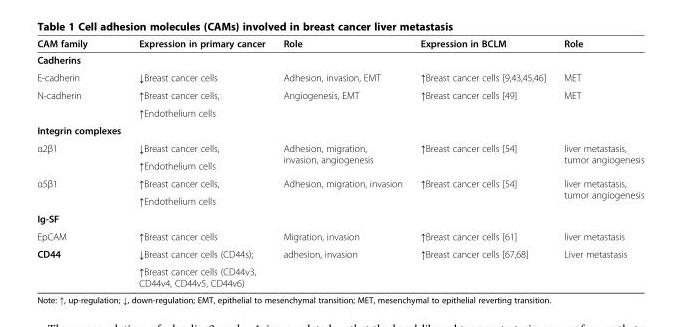table: (36, 37, 643, 288)
table column: (129, 37, 273, 288), (410, 37, 554, 288), (273, 37, 410, 288), (36, 37, 129, 288), (554, 37, 643, 288)
table column header: (36, 37, 643, 51)
table projected row header: (36, 209, 643, 227), (36, 51, 643, 68), (36, 121, 643, 138)
table row: (36, 262, 643, 288), (36, 85, 643, 103), (36, 103, 643, 121), (36, 138, 643, 156), (36, 173, 643, 191), (36, 191, 643, 209), (36, 209, 643, 227), (36, 244, 643, 262), (36, 51, 643, 68), (36, 68, 643, 85), (36, 121, 643, 138), (36, 156, 643, 173), (36, 227, 643, 244), (36, 37, 643, 51)
table spanning cell: (410, 244, 554, 288), (273, 244, 410, 288), (410, 85, 554, 121), (410, 173, 554, 209), (410, 138, 554, 173), (273, 85, 410, 121), (273, 173, 410, 209), (273, 138, 410, 173), (36, 244, 129, 288), (554, 244, 643, 288), (36, 85, 129, 121), (36, 173, 129, 209), (36, 138, 129, 173), (554, 85, 643, 121), (554, 173, 643, 209), (554, 138, 643, 173)
